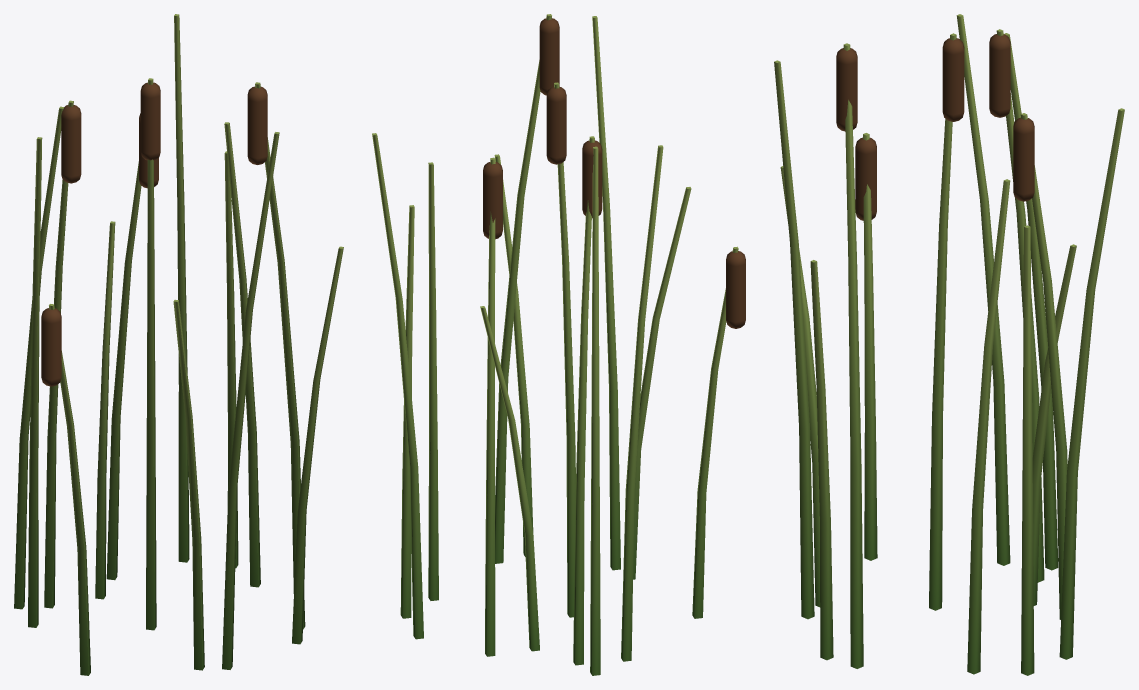
File: plant_reeds.glb
The picture shows the model from 3 angles, left to right: view 1: azimuth 30°, elevation 25°; view 2: azimuth 150°, elevation 25°; view 3: azimuth 270°, elevation 25°; orthographic projection. The views are drawn at different scales.
Visible parts, largest first — view 1: reeds_reeds; view 2: reeds_reeds; view 3: reeds_reeds.
Part boxes in pixels (box(x1,y1,x2,y2)): reeds_reeds: box(14, 14, 343, 675); reeds_reeds: box(372, 14, 745, 675); reeds_reeds: box(774, 14, 1124, 675).
Bounding box in the file's own units: 0.8283 × 1.59 × 0.8479.
